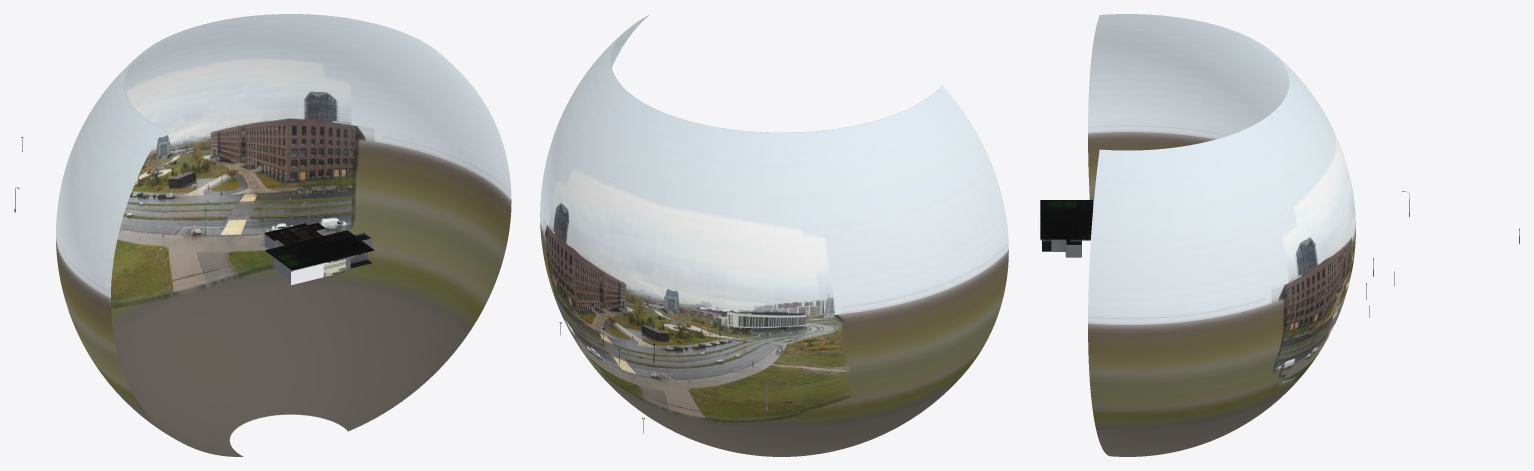
File: office_v9.gltf
3 renders of one model, left to right at view 1: azimuth 30°, elevation 25°; view 2: azimuth 150°, elevation 25°; view 3: azimuth 270°, elevation 25°, orthographic. The views are drawn at different scales.
Parts seen in each view (by area): view 1: WEB_WINDOW, WEB_CEIL, WEB_UL, WEB_R4; view 2: WEB_WINDOW; view 3: WEB_WINDOW, WEB_CEIL.
Boxes of the visible parts, bbox=[...] form: WEB_WINDOW: bbox=[56, 14, 511, 456]; WEB_CEIL: bbox=[264, 223, 374, 270]; WEB_UL: bbox=[291, 259, 345, 285]; WEB_R4: bbox=[273, 238, 372, 281]; WEB_WINDOW: bbox=[540, 14, 1008, 456]; WEB_WINDOW: bbox=[1088, 14, 1355, 456]; WEB_CEIL: bbox=[1040, 200, 1092, 245].
Size of the model in its own units: 120 by 100 by 127.
Materials: 20 (14 with a texture image).
